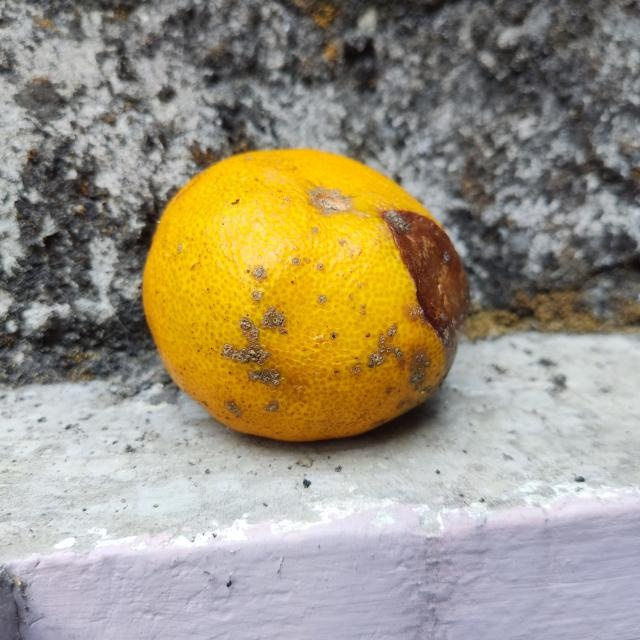agrume: (142, 148, 464, 443)
